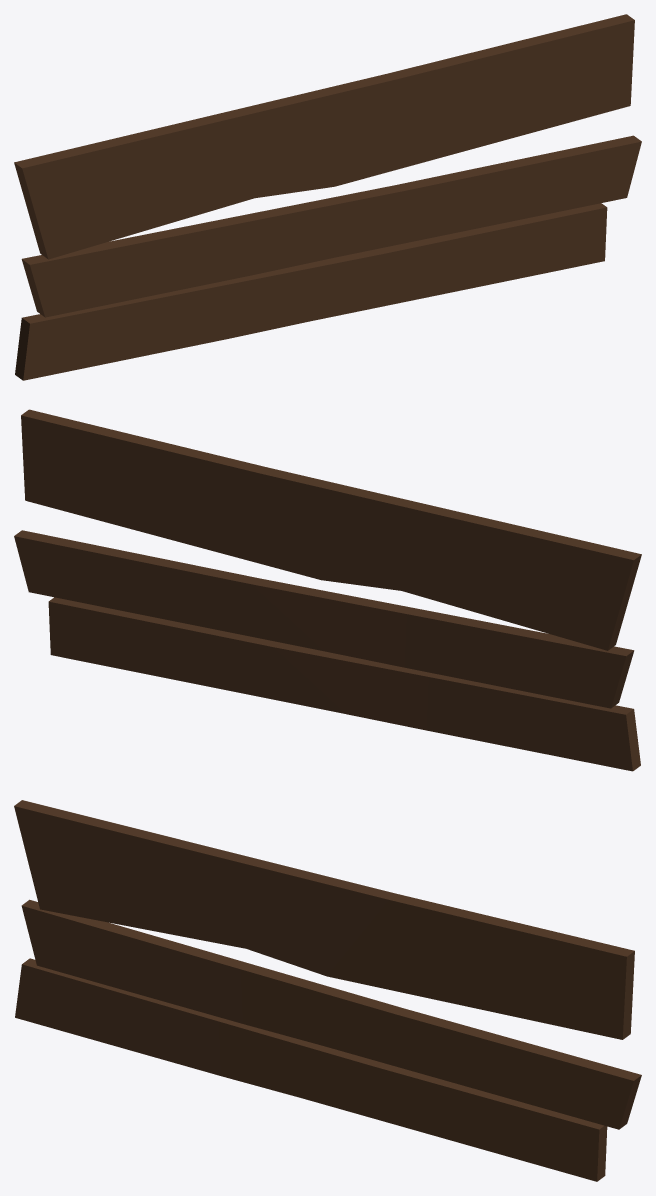
Rendered from Wood 3.glb.
The picture shows the model from 3 angles, top to bottom: view 1: azimuth 30°, elevation 25°; view 2: azimuth 150°, elevation 25°; view 3: azimuth 330°, elevation 25°; orthographic projection.
Visible parts, largest first — view 1: Wood 3; view 2: Wood 3; view 3: Wood 3.
Part boxes in pixels (bbox=[...]): Wood 3: bbox=[14, 14, 641, 380]; Wood 3: bbox=[14, 409, 641, 771]; Wood 3: bbox=[14, 800, 641, 1181].
Size of what is drawn, in the model's own units: 4.59 by 1.67 by 0.1274.
Materials: 1 (1 with a texture image).
